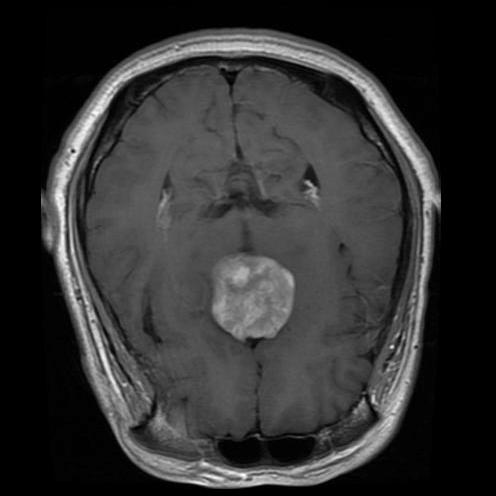Tumour-Pituitary: (209, 250, 300, 342)
